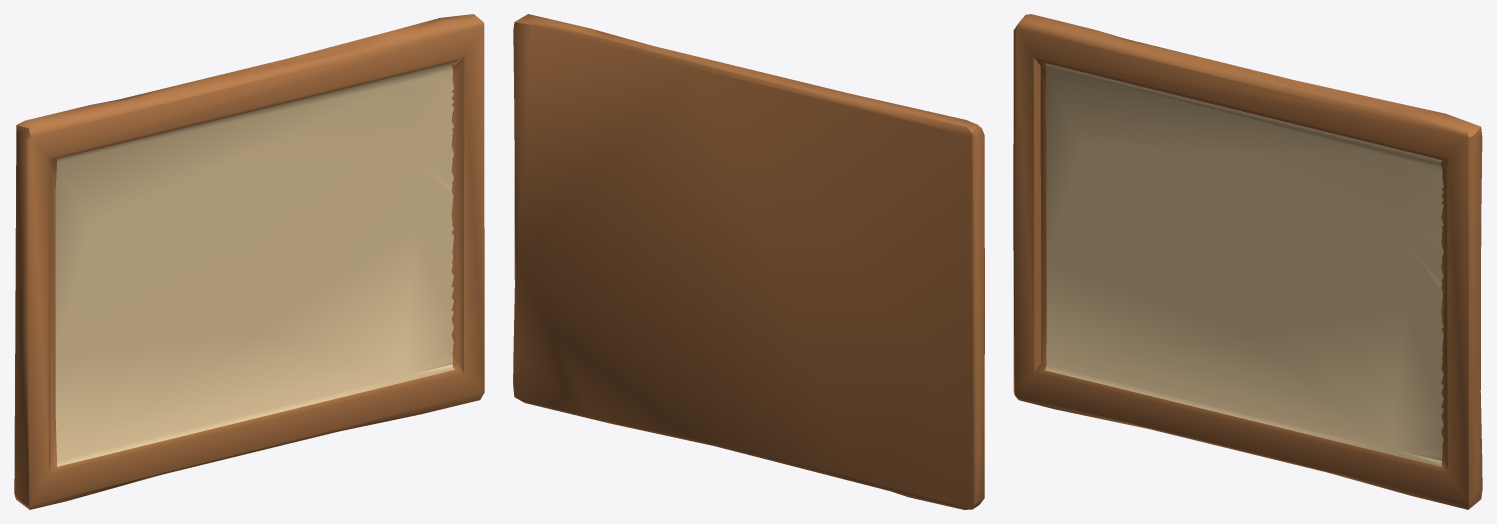
Rendered from worldMap.glb.
3 renders of one model, left to right at view 1: azimuth 30°, elevation 25°; view 2: azimuth 150°, elevation 25°; view 3: azimuth 330°, elevation 25°, orthographic.
Parts seen in each view (by area): view 1: worldMap_canvas, worldMap_wood; view 2: worldMap_wood; view 3: worldMap_canvas, worldMap_wood.
Boxes of the visible parts, x1,y1,x2,y2 form: worldMap_canvas: [55, 62, 454, 466]; worldMap_wood: [14, 14, 484, 509]; worldMap_wood: [513, 14, 984, 509]; worldMap_canvas: [1045, 63, 1443, 466]; worldMap_wood: [1013, 14, 1482, 509].
Size of the model in its own units: 1.71 by 1.36 by 0.0781.
